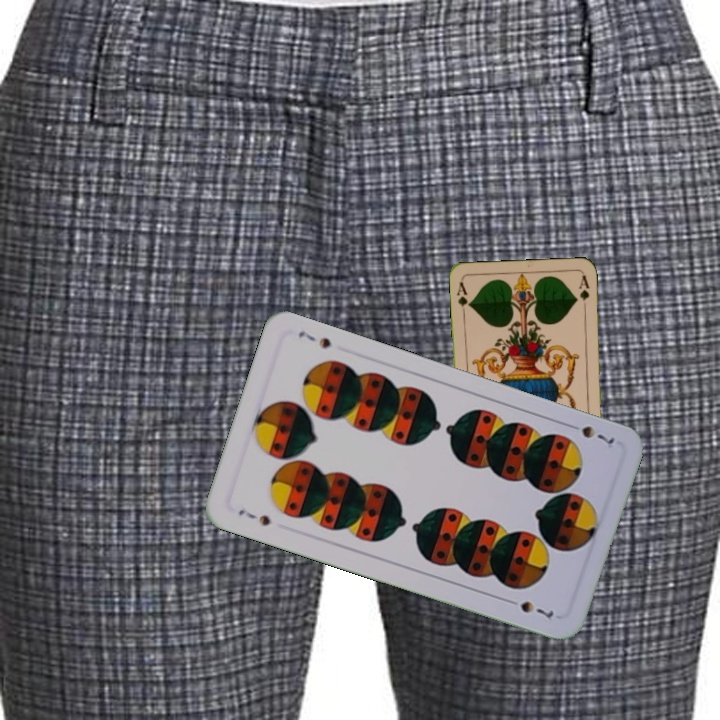GA: (453, 278, 473, 318)
S7: (563, 419, 617, 451), (234, 505, 273, 529)
